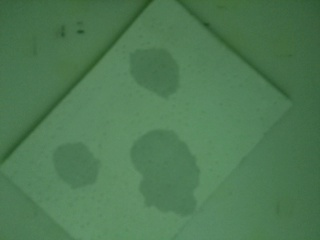Water_detected: (133, 134, 190, 201), (133, 47, 172, 82), (70, 150, 95, 184)
